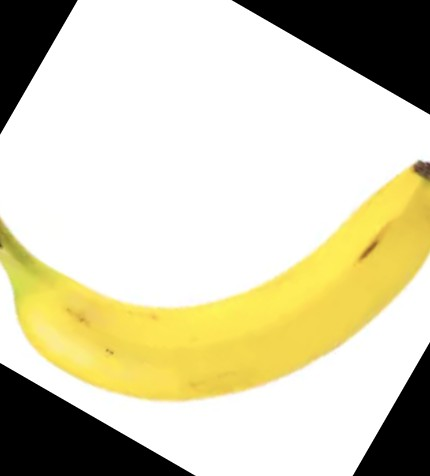fresh_banana: (3, 163, 430, 403)
